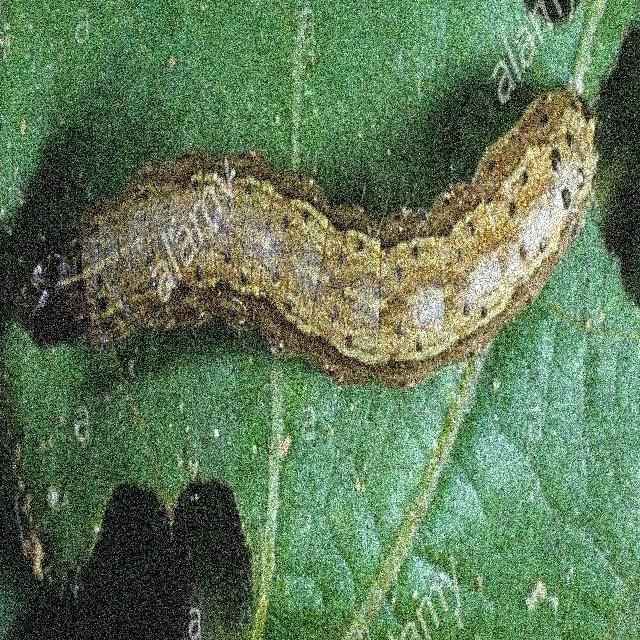Plaga: (25, 78, 593, 383)
